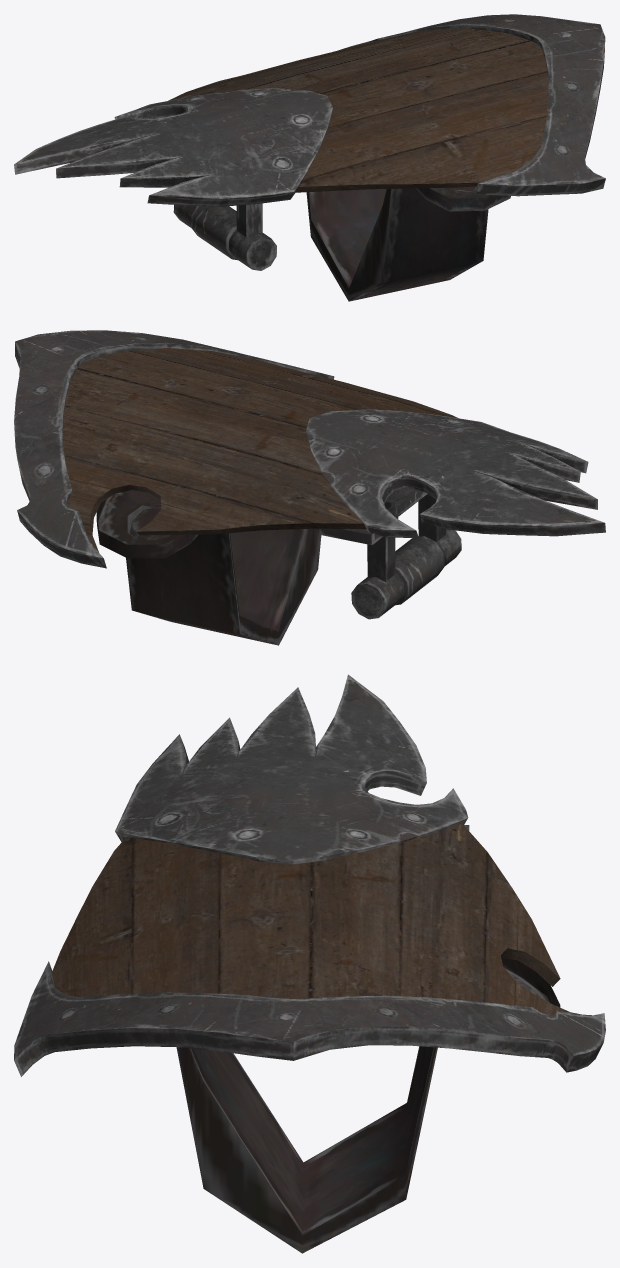
Rendered from sm_mordor_shield_small_b.fbx.
3 views of the same model, one above another, from view 1: azimuth 30°, elevation 25°; view 2: azimuth 150°, elevation 25°; view 3: azimuth 270°, elevation 25° (orthographic). The views are drawn at different scales.
Visible parts, largest first — view 1: sm_mordor_shield_small_b.1, sm_mordor_shield_small_b.0; view 2: sm_mordor_shield_small_b.1, sm_mordor_shield_small_b.0; view 3: sm_mordor_shield_small_b.1, sm_mordor_shield_small_b.0.
Part boxes in pixels (x1,y1,x2,y2): sm_mordor_shield_small_b.1: (14, 14, 605, 206); sm_mordor_shield_small_b.0: (173, 186, 510, 301); sm_mordor_shield_small_b.1: (14, 330, 605, 568); sm_mordor_shield_small_b.0: (96, 487, 461, 645); sm_mordor_shield_small_b.1: (14, 674, 605, 1076); sm_mordor_shield_small_b.0: (176, 825, 560, 1253).
Size of the model in its own units: 0.7843 by 0.5029 by 0.2934.
2 materials, 2 textured.
